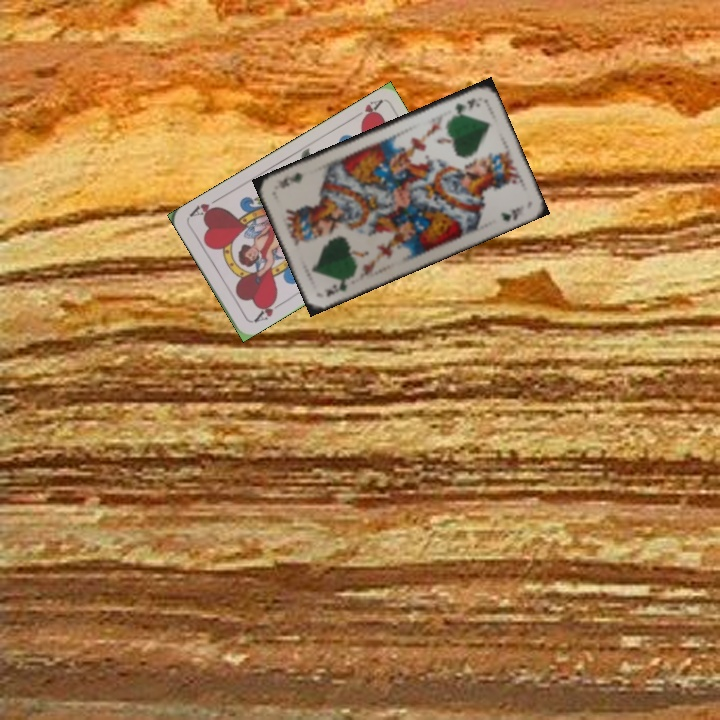GK: (322, 273, 354, 299), (450, 94, 478, 116)
HA: (248, 294, 285, 325), (347, 96, 384, 125)
